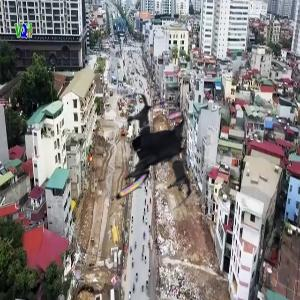drone: (79, 89, 212, 222)
